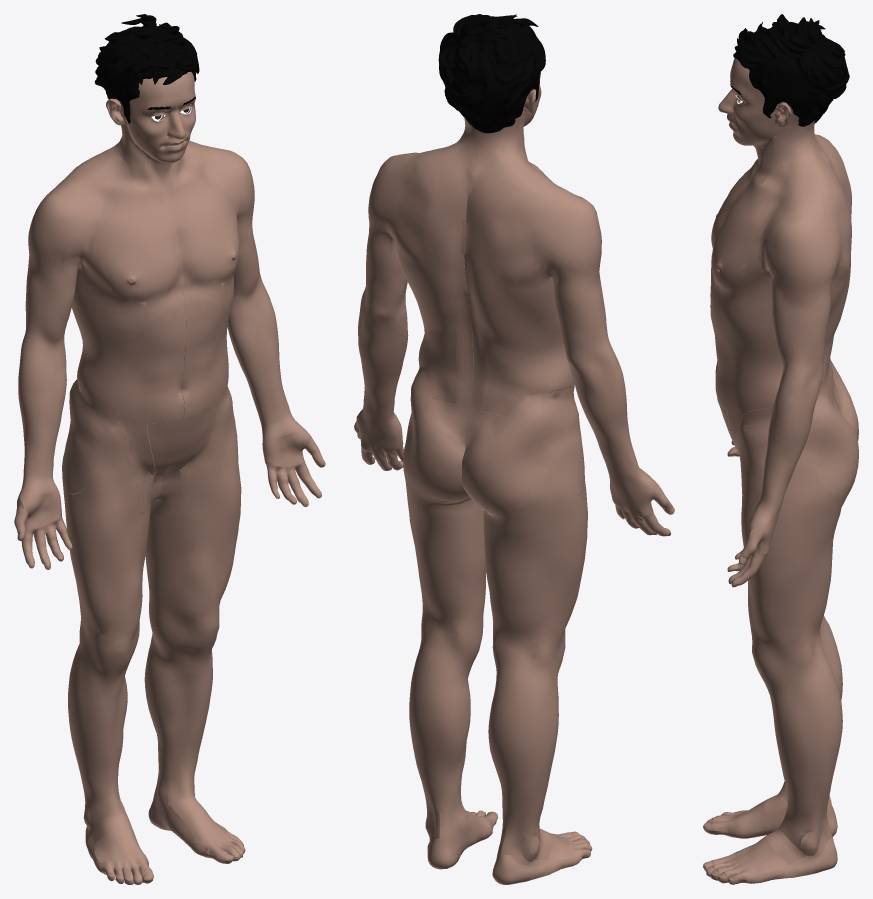
The model's file is Untitled_alaa.glb.
3 views of the same model, side by side, from view 1: azimuth 30°, elevation 25°; view 2: azimuth 150°, elevation 25°; view 3: azimuth 270°, elevation 25° (orthographic). The views are drawn at different scales.
Visible parts, largest first — view 1: Anterior region of thigh.r, Anterior region of thigh.l, Proximal transverse arch of foot.l, Posterior region of leg.r, Hypogastric region.r, Anterior region of forearm.r, Anterior region of arm.r, Anterior region of wrist.l, Lesser supraclavicular fossa.r, Hypogastric region.l, Pectoral region.r, Hairs of head (+5 smaller); view 2: Anterior region of thigh.r, Posterior region of leg.r, Anterior region of thigh.l, Proximal transverse arch of foot.l, Vertebral region.r, Hairs of head, Vertebral region.l, Anterior region of forearm.r, Anterior region of arm.r, Anterior region of wrist.l, Scapular region.r, Scapular region.l (+5 smaller); view 3: Anterior region of thigh.l, Proximal transverse arch of foot.l, Anterior region of arm.l, Hairs of head, Crura of antihelix.l, Anterior region of wrist.l, Hypogastric region.l, Presternal region.l, Posterior region of leg.r, Pectoral region.l, Scapular region.l, Vertebral region.l (+5 smaller).
Boxes of the visible parts, box(x1,y1,x2,y2) form: Anterior region of thigh.r: box(62, 379, 164, 636); Anterior region of thigh.l: box(120, 346, 241, 615); Proximal transverse arch of foot.l: box(144, 598, 245, 863); Posterior region of leg.r: box(68, 618, 153, 884); Hypogastric region.r: box(77, 294, 186, 475); Anterior region of forearm.r: box(14, 330, 72, 569); Anterior region of arm.r: box(25, 174, 160, 337); Anterior region of wrist.l: box(227, 279, 325, 506); Lesser supraclavicular fossa.r: box(70, 77, 182, 200); Hypogastric region.l: box(166, 294, 232, 474); Pectoral region.r: box(94, 205, 174, 303); Hairs of head: box(94, 14, 199, 123); Anterior region of thigh.r: box(462, 384, 587, 640); Posterior region of leg.r: box(488, 628, 592, 884); Anterior region of thigh.l: box(403, 360, 486, 624); Proximal transverse arch of foot.l: box(409, 609, 498, 869); Vertebral region.r: box(464, 182, 549, 416); Hairs of head: box(438, 14, 545, 133); Vertebral region.l: box(405, 179, 472, 408); Anterior region of forearm.r: box(564, 339, 674, 536); Anterior region of arm.r: box(538, 176, 608, 348); Anterior region of wrist.l: box(354, 286, 408, 470); Scapular region.r: box(475, 185, 559, 287); Scapular region.l: box(380, 164, 456, 266); Anterior region of thigh.l: box(737, 393, 858, 646); Proximal transverse arch of foot.l: box(703, 627, 842, 884); Anterior region of arm.l: box(741, 185, 838, 364); Hairs of head: box(733, 14, 849, 126); Crura of antihelix.l: box(718, 58, 834, 199); Anterior region of wrist.l: box(727, 359, 823, 587); Hypogastric region.l: box(710, 285, 782, 454); Presternal region.l: box(711, 183, 845, 344); Posterior region of leg.r: box(703, 615, 842, 838); Pectoral region.l: box(711, 197, 769, 291); Scapular region.l: box(823, 173, 851, 276); Vertebral region.l: box(818, 168, 850, 405).
Size of the model in its own units: 0.6806 by 1.74 by 0.2947.
20 materials, 13 textured.
